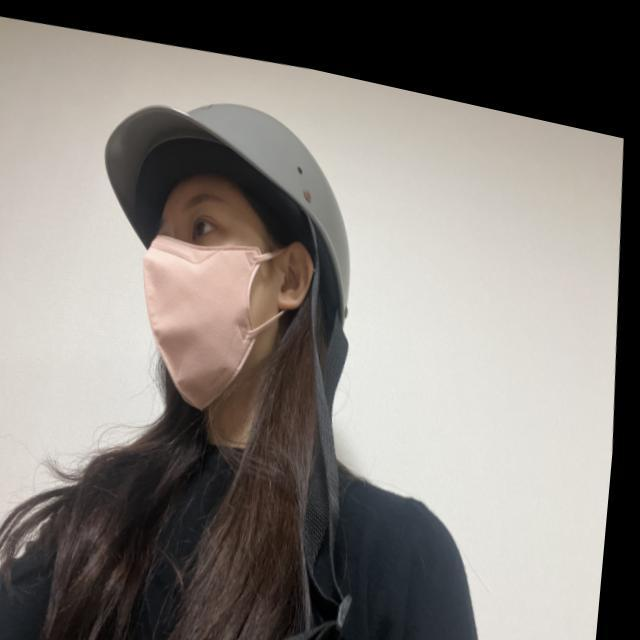Helmet: (94, 83, 370, 418)
